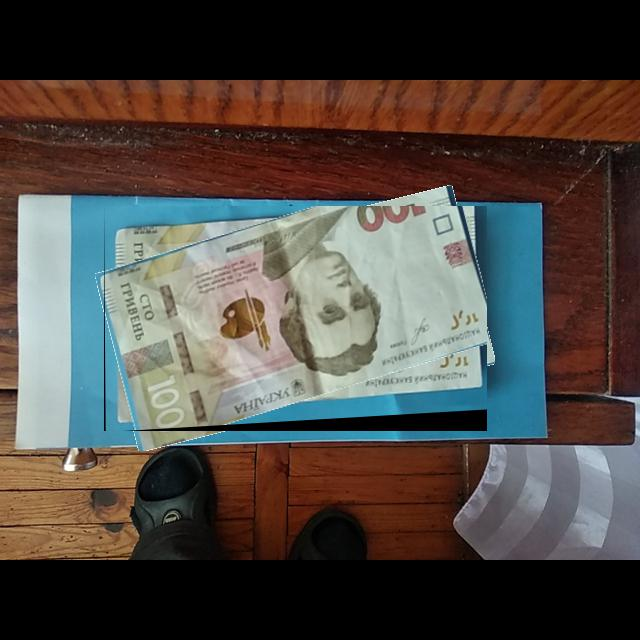100uah: (104, 206, 488, 432)
